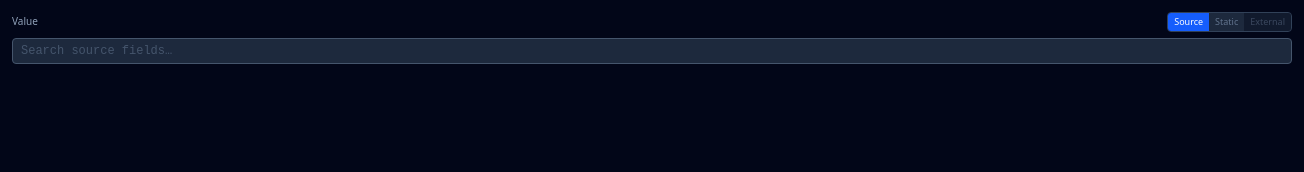
Test: ValueEntryEditor — FS-052 T-05 custom source dropdown › filters options by search query
Type "mobile" into the field with test id "value-source-0-value" at point(652, 50), box [12,38,1292,64]
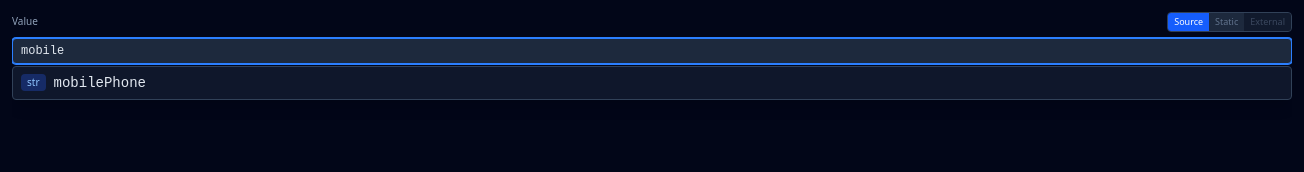
Check: the button with test id "value-source-option-0-value-mobilePhone" is shown, box [13,66,1291,98]
Check: the button with test id "value-source-option-0-value-primaryPhone" is gone
